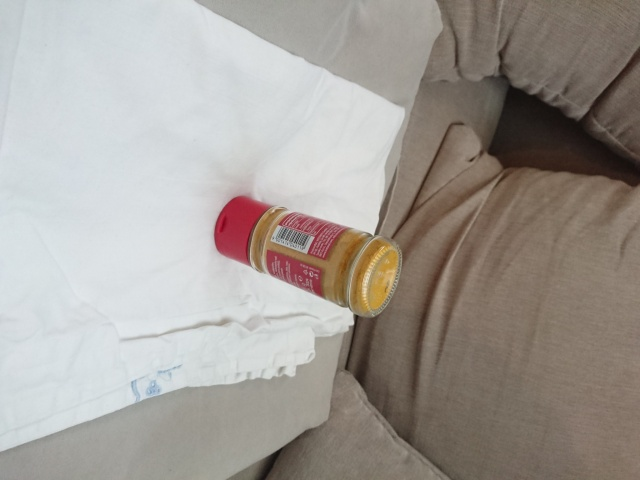Kotanyi Curry Spices Mix 70g: (212, 193, 404, 321)
